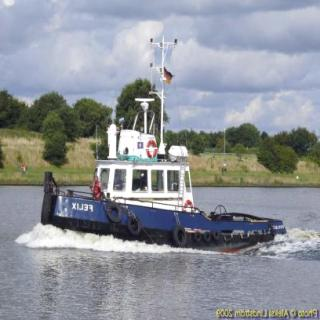Tug Boat: (35, 101, 292, 246)
